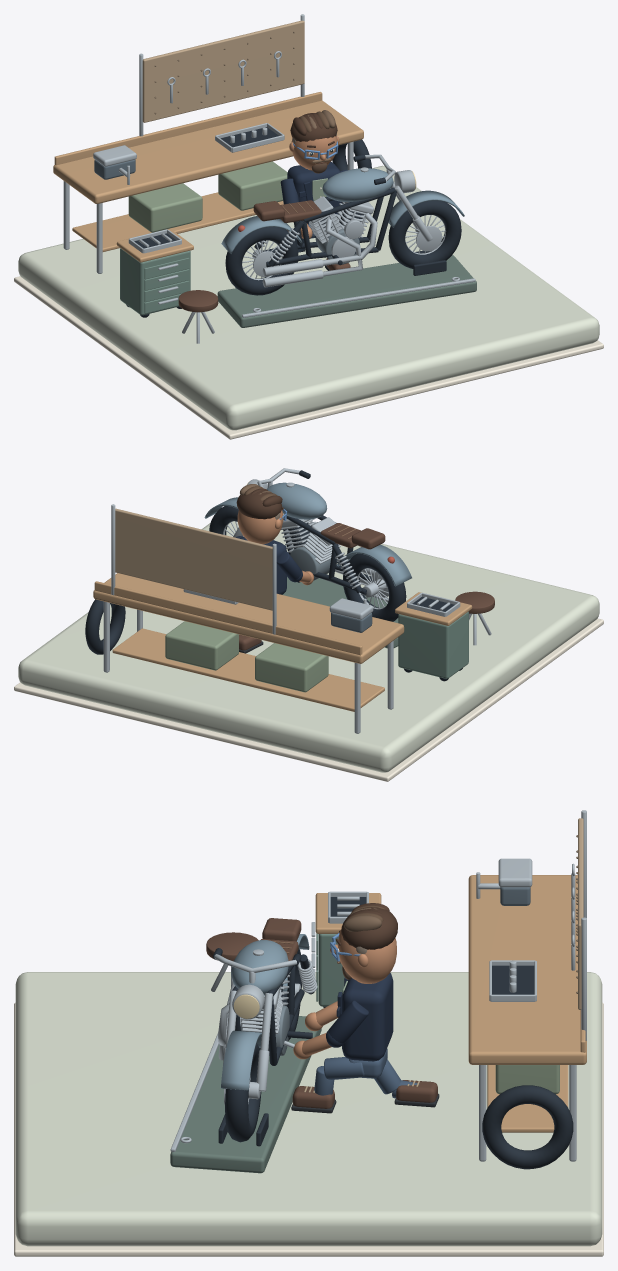
Rendered from fabrication.glb.
The picture shows the model from 3 angles, top to bottom: view 1: azimuth 30°, elevation 25°; view 2: azimuth 150°, elevation 25°; view 3: azimuth 270°, elevation 25°; orthographic projection. The views are drawn at different scales.
Parts seen in each view (by area): view 1: Square floating plinth.004, Pegboard panel, Oak desktop.003, Motorcycle lift, Ivory lower edge.004, Underbench shelf, Parts bin, Bench backsplash, Road tire.001, Parts bin.001, Road tire, Cabinet body (+14 smaller); view 2: Square floating plinth.004, Pegboard panel, Oak desktop.003, Ivory lower edge.004, Underbench shelf, Cabinet body, Bench backsplash, Parts bin.001, Parts bin, Road tire, Teardrop petrol tank, Motorcycle lift (+19 smaller); view 3: Square floating plinth.004, Oak desktop.003, Motorcycle lift, Ivory lower edge.004, Spare tire, Jacket body.004, Underbench shelf, Teardrop petrol tank, Road tire.001, Road fender.001, Face.004, Parts bin.001 (+16 smaller).
Boxes of the visible parts, bbox=[...] form: Square floating plinth.004: bbox=[18, 165, 599, 430]; Pegboard panel: bbox=[142, 20, 304, 122]; Oak desktop.003: bbox=[53, 100, 363, 203]; Motorcycle lift: bbox=[217, 255, 476, 327]; Ivory lower edge.004: bbox=[14, 276, 603, 439]; Underbench shelf: bbox=[72, 192, 283, 251]; Parts bin: bbox=[128, 183, 202, 232]; Bench backsplash: bbox=[54, 92, 322, 165]; Road tire.001: bbox=[388, 200, 461, 268]; Parts bin.001: bbox=[218, 161, 287, 210]; Road tire: bbox=[225, 227, 298, 295]; Cabinet body: bbox=[120, 248, 190, 315]; Square floating plinth.004: bbox=[18, 521, 599, 772]; Pegboard panel: bbox=[115, 508, 272, 610]; Oak desktop.003: bbox=[93, 573, 404, 663]; Ivory lower edge.004: bbox=[14, 618, 603, 781]; Underbench shelf: bbox=[112, 628, 384, 711]; Cabinet body: bbox=[398, 611, 468, 678]; Bench backsplash: bbox=[94, 581, 362, 655]; Parts bin.001: bbox=[165, 621, 238, 670]; Parts bin: bbox=[255, 643, 328, 692]; Road tire: bbox=[342, 553, 406, 621]; Teardrop petrol tank: bbox=[266, 482, 327, 519]; Motorcycle lift: bbox=[282, 577, 398, 648]; Square floating plinth.004: bbox=[15, 972, 602, 1246]; Oak desktop.003: bbox=[468, 875, 586, 1064]; Motorcycle lift: bbox=[170, 1016, 321, 1173]; Ivory lower edge.004: bbox=[14, 1002, 603, 1256]; Spare tire: bbox=[482, 1085, 573, 1169]; Jacket body.004: bbox=[342, 973, 393, 1061]; Underbench shelf: bbox=[487, 1065, 568, 1132]; Teardrop petrol tank: bbox=[231, 940, 288, 995]; Road tire.001: bbox=[225, 1043, 261, 1142]; Road fender.001: bbox=[221, 1030, 261, 1090]; Face.004: bbox=[337, 929, 396, 983]; Parts bin.001: bbox=[495, 1065, 559, 1094].
Bounding box in the file's own units: 5.23 × 2.71 × 5.23.
